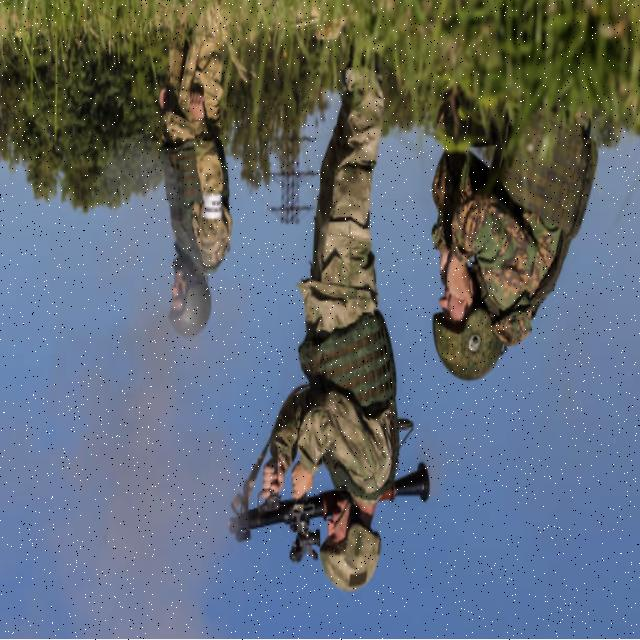bazooka: (227, 450, 443, 561)
